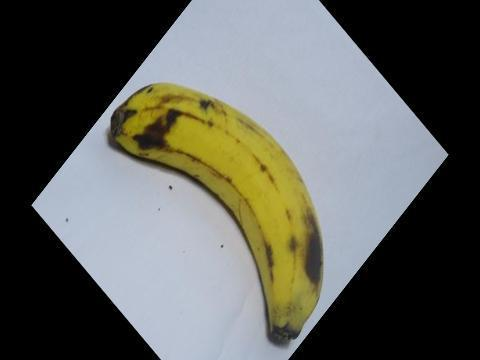ripe: (92, 63, 341, 356)
